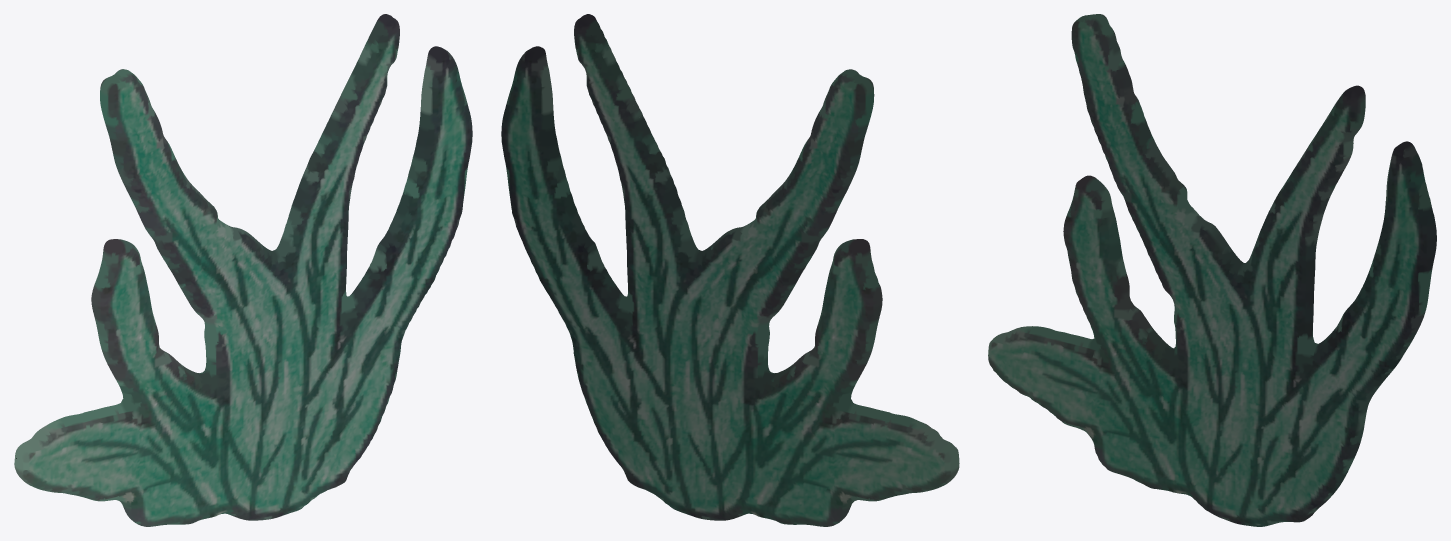
Rendered from seaweed_converter_online.glb.
3 views of the same model, side by side, from view 1: azimuth 30°, elevation 25°; view 2: azimuth 150°, elevation 25°; view 3: azimuth 330°, elevation 25° (orthographic). The views are drawn at different scales.
Size of the model in its own units: 0.2231 by 0.2261 by 0.00997.
